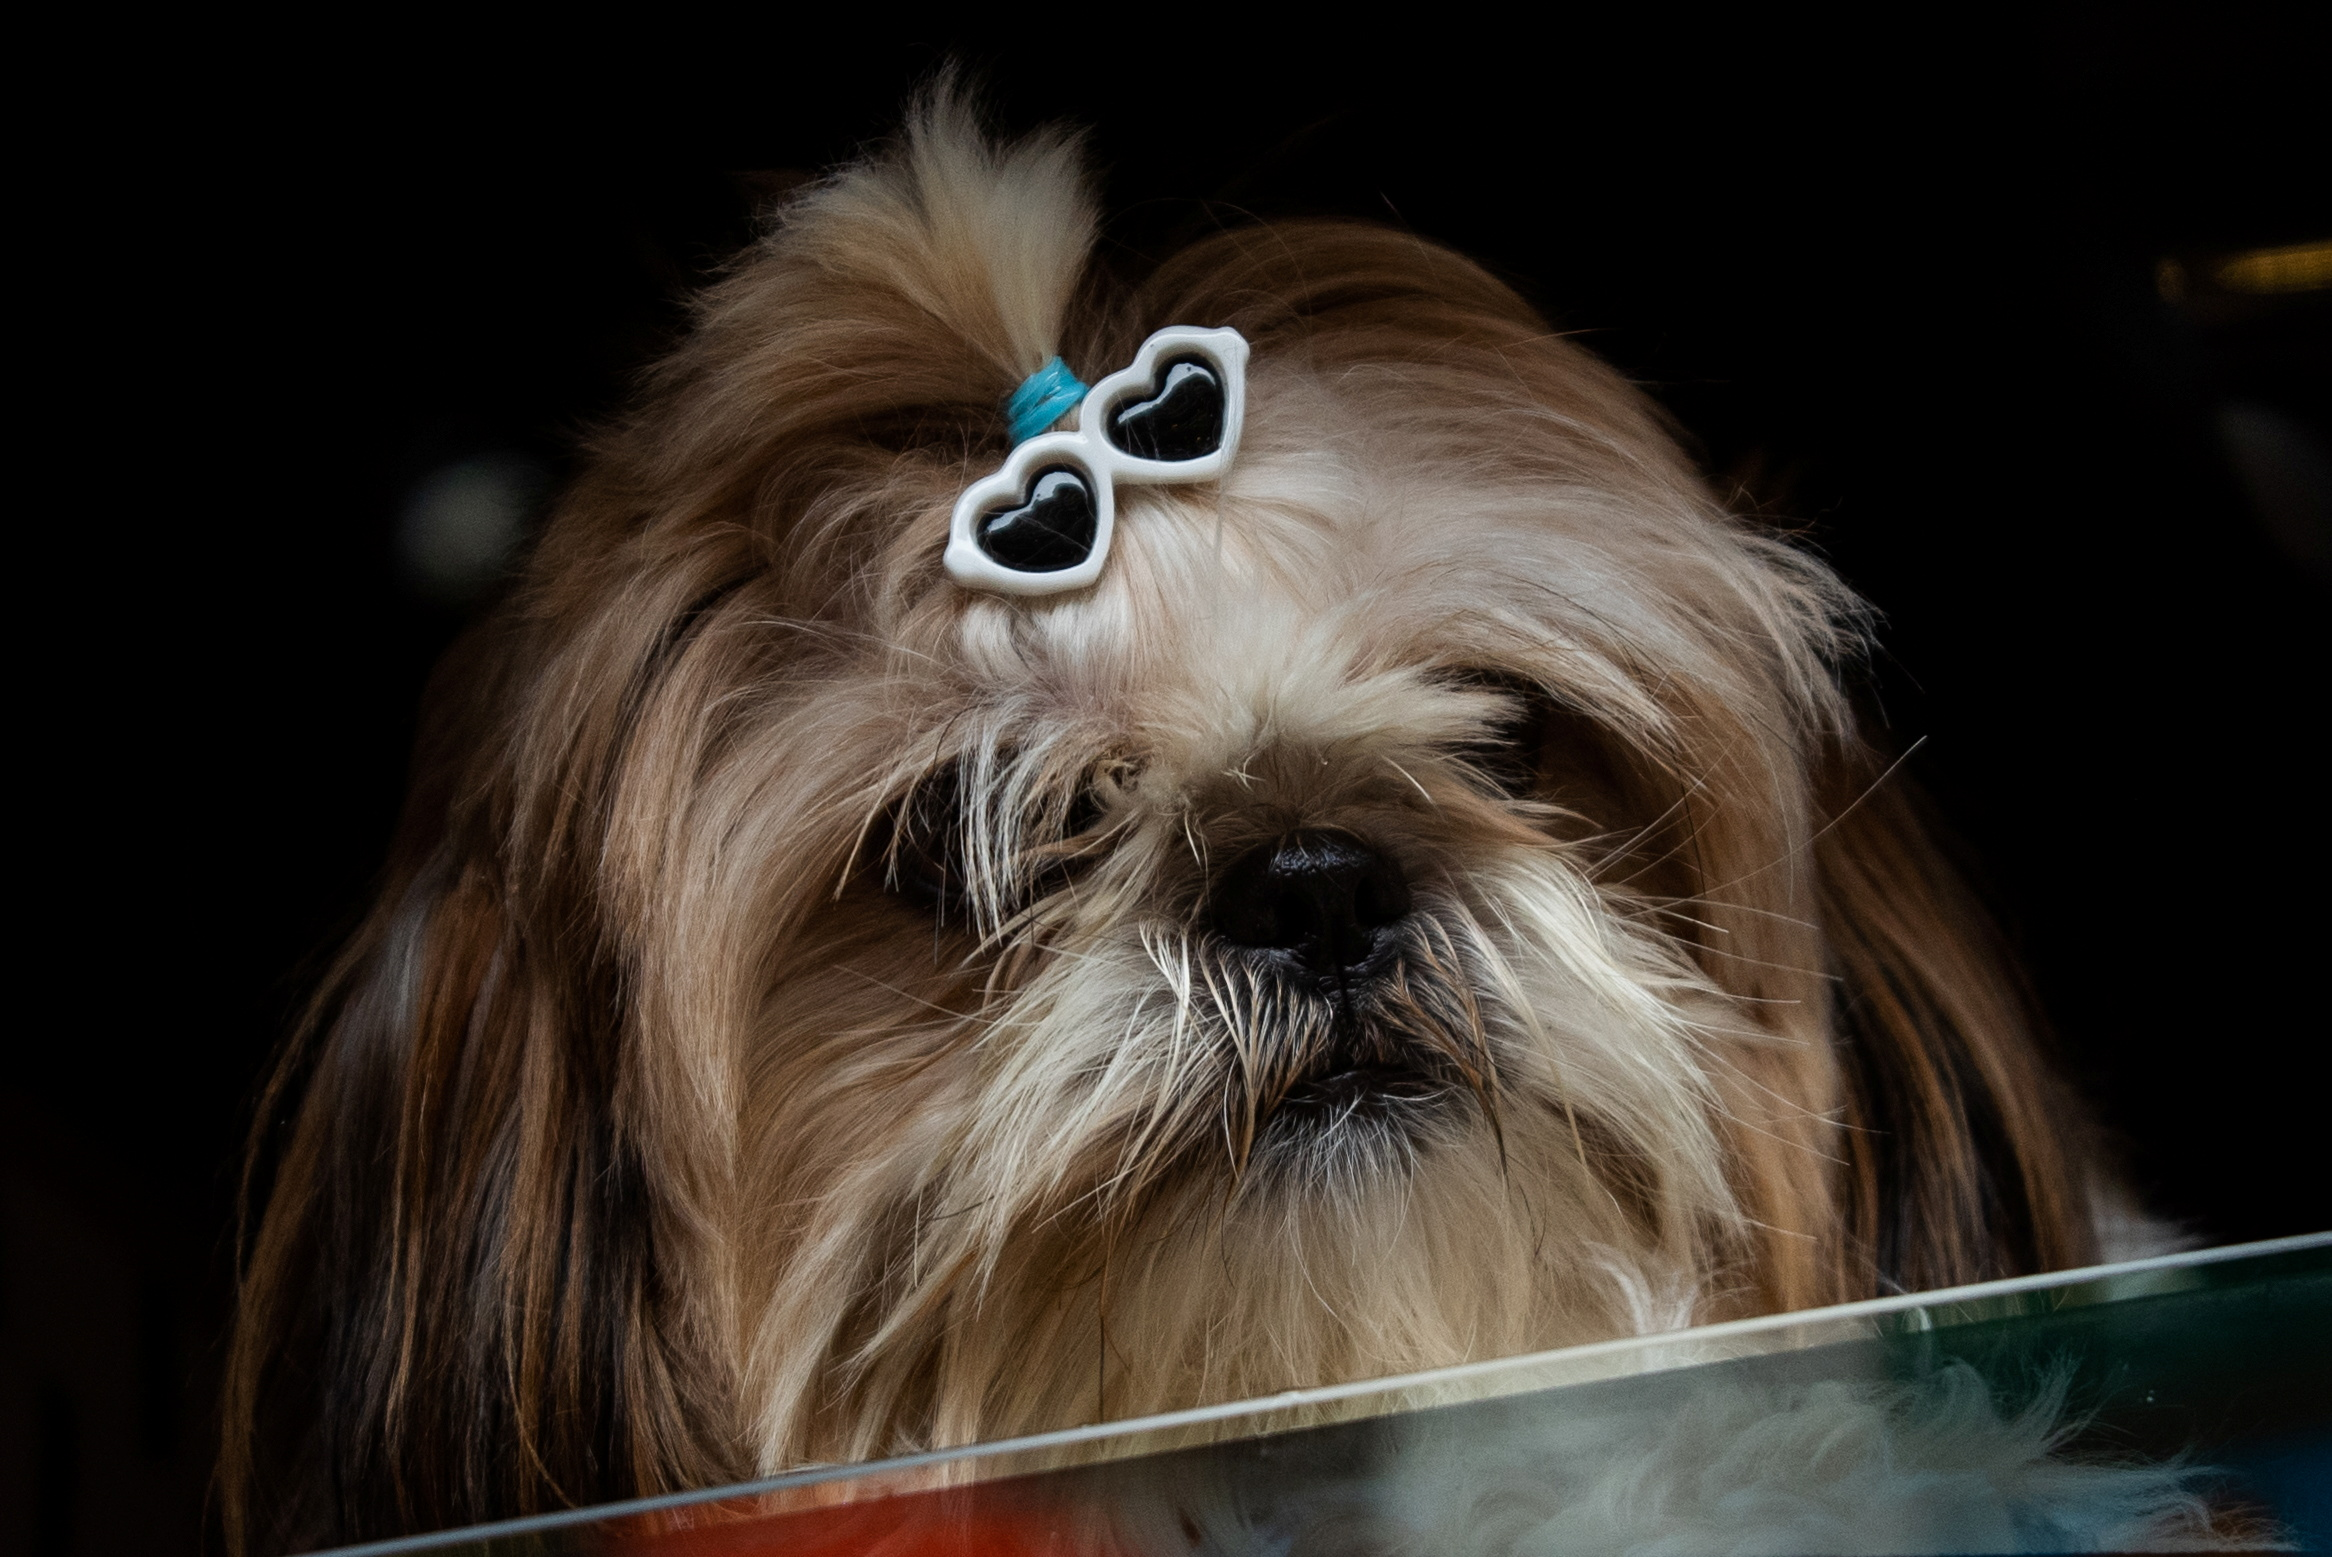pet: (547, 375, 1703, 1505)
